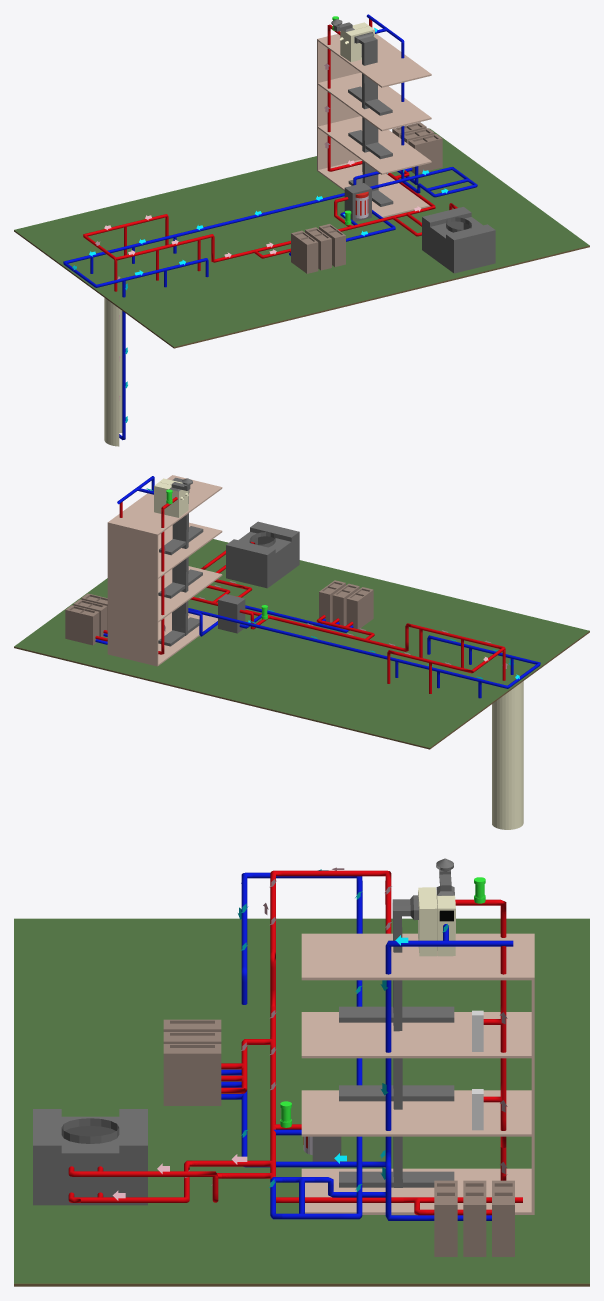
File: mainColdV2.6.glb
3 views of the same model, one above another, from view 1: azimuth 30°, elevation 25°; view 2: azimuth 150°, elevation 25°; view 3: azimuth 270°, elevation 25° (orthographic). The views are drawn at different scales.
Parts seen in each view (by area): view 1: ground, building, pipes.001, Air Cooler, LeftCeilingCooler, well, RMA1, RMA2, Boiler; view 2: ground, building, pipes.001, well, Air Cooler, LeftCeilingCooler, RMA1, RMA2, RightCeilingHeater, Boiler; view 3: ground, building, pipes.001, Air Cooler, LeftCeilingCooler, RMA2, RMA1, RightCeilingHeater, Boiler.
Part boxes in pixels (left/top/right/bottom): ground: left=14, top=128, right=589, bottom=348; building: left=317, top=33, right=431, bottom=217; pipes.001: left=63, top=14, right=477, bottom=440; Air Cooler: left=422, top=207, right=495, bottom=273; LeftCeilingCooler: left=345, top=26, right=393, bottom=206; well: left=104, top=298, right=122, bottom=446; RMA1: left=291, top=224, right=345, bottom=273; RMA2: left=392, top=122, right=442, bottom=173; Boiler: left=344, top=183, right=371, bottom=221; ground: left=14, top=539, right=589, bottom=749; building: left=107, top=475, right=222, bottom=666; pipes.001: left=95, top=476, right=540, bottom=698; well: left=492, top=681, right=523, bottom=829; Air Cooler: left=226, top=521, right=299, bottom=588; LeftCeilingCooler: left=158, top=477, right=203, bottom=646; RMA1: left=319, top=580, right=373, bottom=629; RMA2: left=65, top=593, right=107, bottom=645; RightCeilingHeater: left=154, top=478, right=192, bottom=517; Boiler: left=218, top=594, right=245, bottom=633; ground: left=14, top=918, right=589, bottom=1286; building: left=301, top=933, right=534, bottom=1214; pipes.001: left=68, top=870, right=522, bottom=1220; Air Cooler: left=33, top=1109, right=147, bottom=1205; LeftCeilingCooler: left=339, top=887, right=454, bottom=1187; RMA2: left=434, top=1180, right=514, bottom=1256; RMA1: left=163, top=1019, right=221, bottom=1105; RightCeilingHeater: left=436, top=858, right=455, bottom=956; Boiler: left=303, top=1136, right=341, bottom=1161.
Size of the model in its own units: 31.12 by 21.88 by 20.
